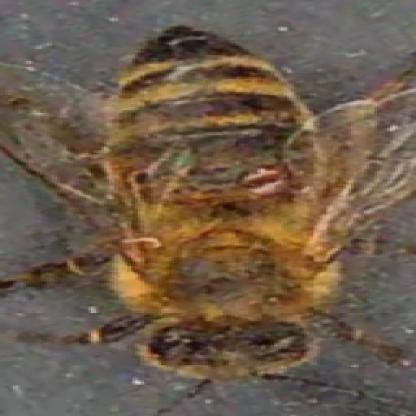bee: (72, 26, 358, 387)
vaoora: (240, 166, 302, 193)
